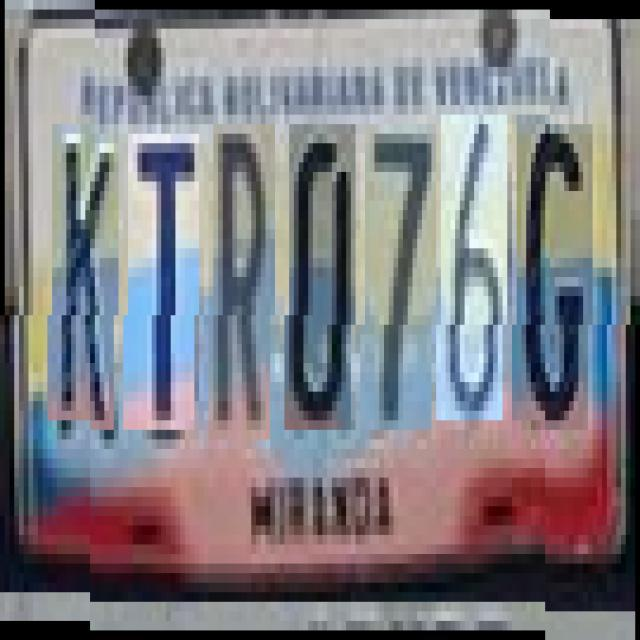0: (289, 124, 356, 430)
6: (440, 114, 508, 420)
7: (365, 124, 436, 430)
G: (516, 114, 592, 420)
K: (52, 134, 119, 430)
R: (213, 124, 275, 440)
T: (128, 134, 199, 430)
